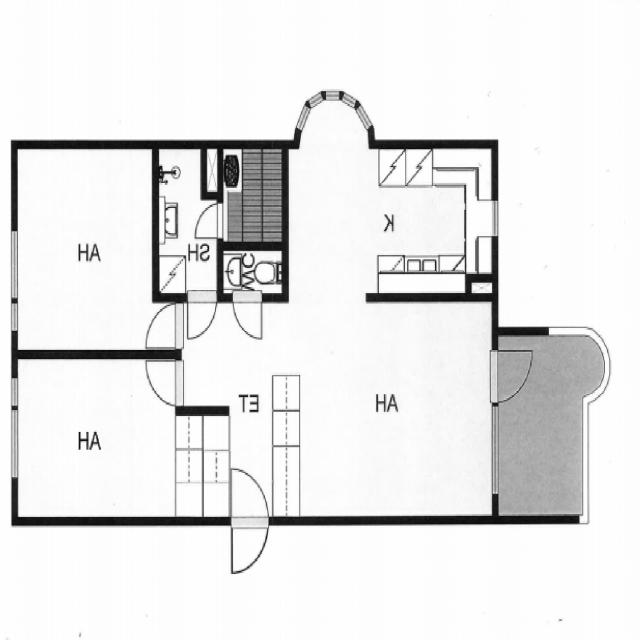door: (492, 350, 534, 402), (232, 464, 268, 524), (232, 516, 268, 575), (144, 304, 182, 348), (145, 362, 182, 404), (233, 292, 261, 342), (188, 292, 215, 341), (194, 204, 224, 238)
